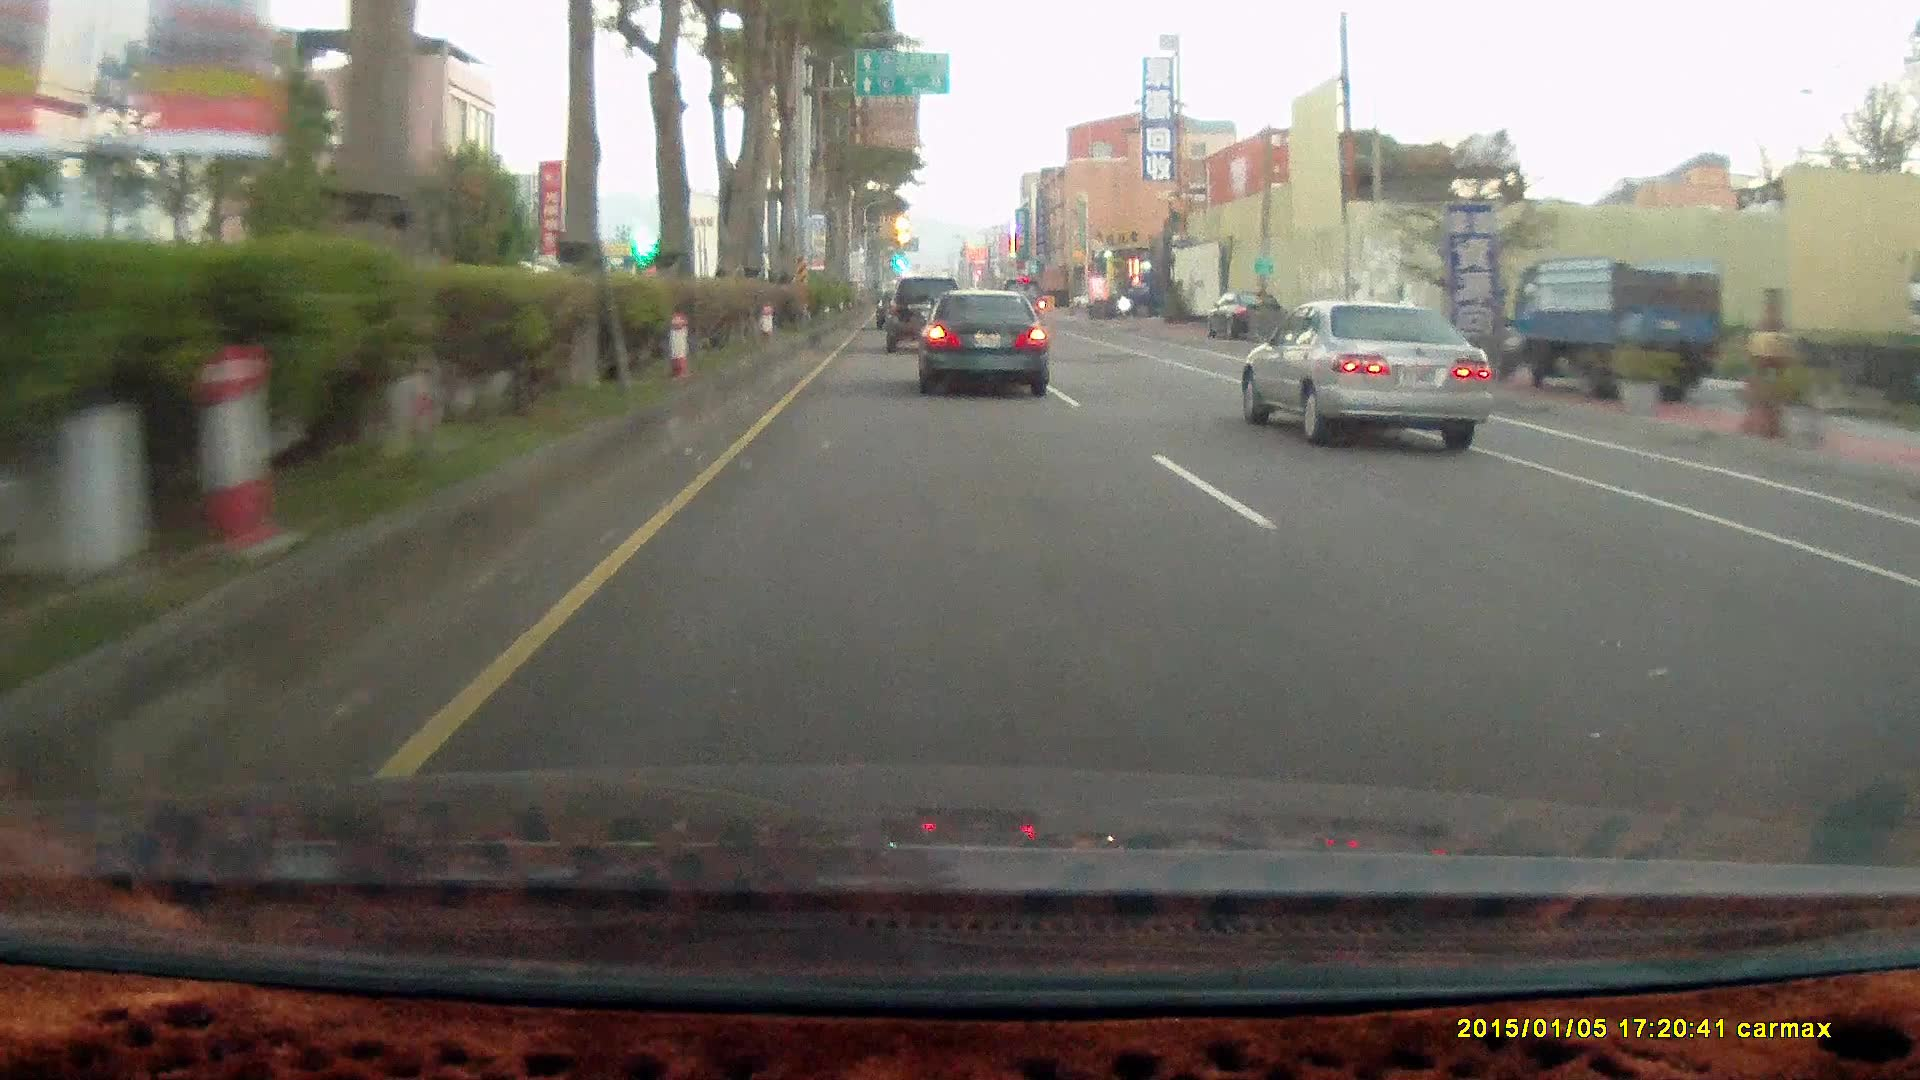vehicle: (1242, 301, 1505, 454), (1240, 299, 1494, 454), (1505, 253, 1727, 407), (1511, 253, 1725, 401), (914, 286, 1048, 393), (919, 291, 1052, 397), (885, 276, 965, 353), (1207, 293, 1291, 344), (1116, 272, 1189, 316)
